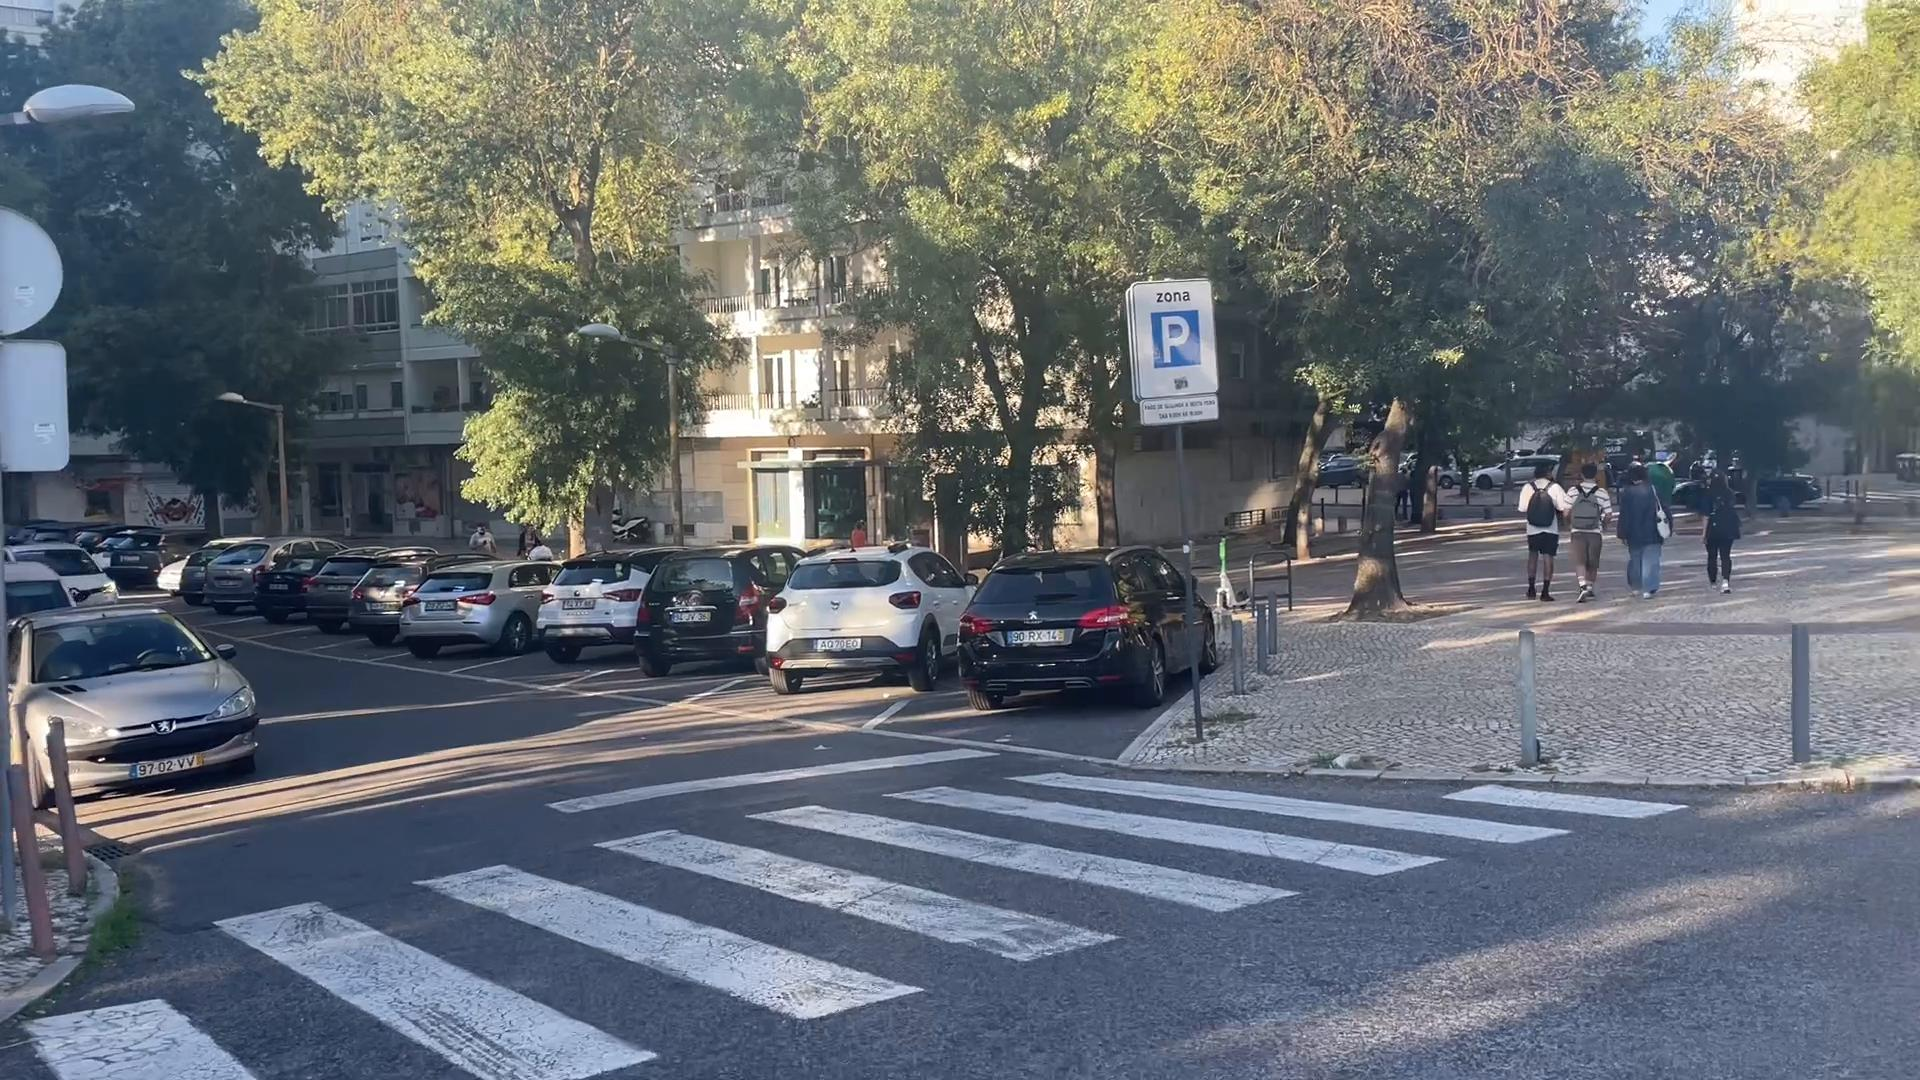zona de estacionamento autorizado: (1118, 276, 1224, 394)
